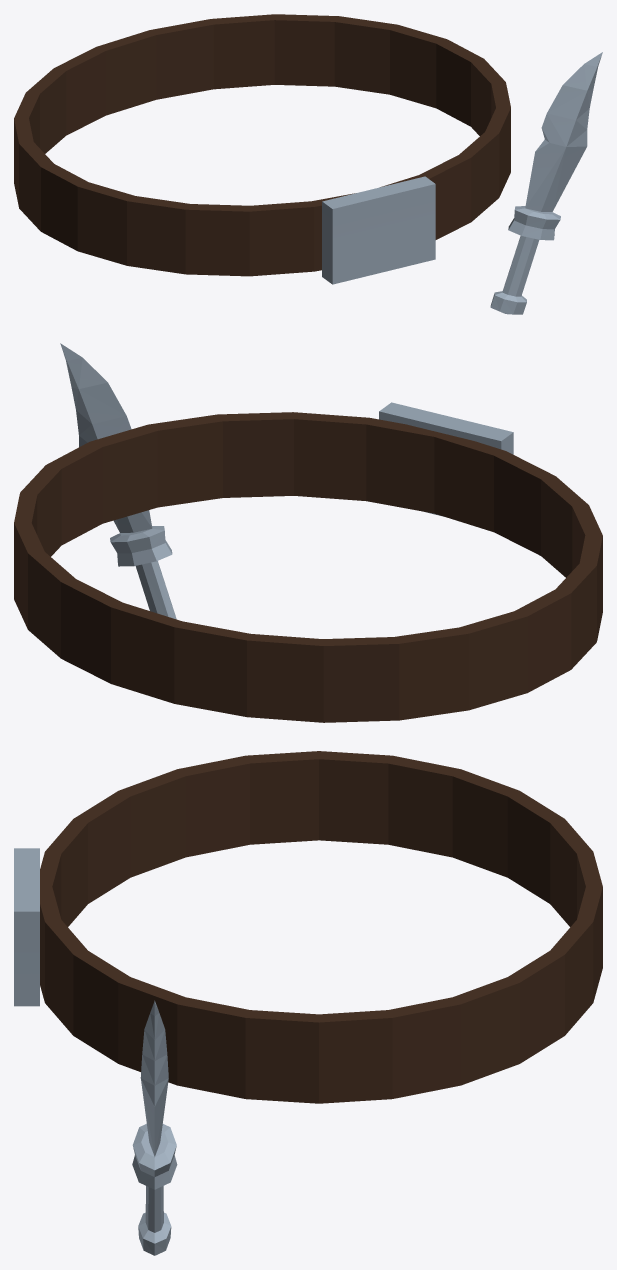
Rendered from hobbit_cinto_2.glb.
The picture shows the model from 3 angles, top to bottom: view 1: azimuth 30°, elevation 25°; view 2: azimuth 150°, elevation 25°; view 3: azimuth 270°, elevation 25°; orthographic projection. The views are drawn at different scales.
Parts seen in each view (by area): view 1: hobbit_cinto_2; view 2: hobbit_cinto_2; view 3: hobbit_cinto_2.
Part boxes in pixels (left/top/right/bottom): hobbit_cinto_2: left=14, top=14, right=602, bottom=314; hobbit_cinto_2: left=14, top=343, right=602, bottom=722; hobbit_cinto_2: left=14, top=751, right=602, bottom=1255.
Bounding box in the file's own units: 0.9634 × 0.4465 × 0.7885.
Materials: 1 (1 with a texture image).
